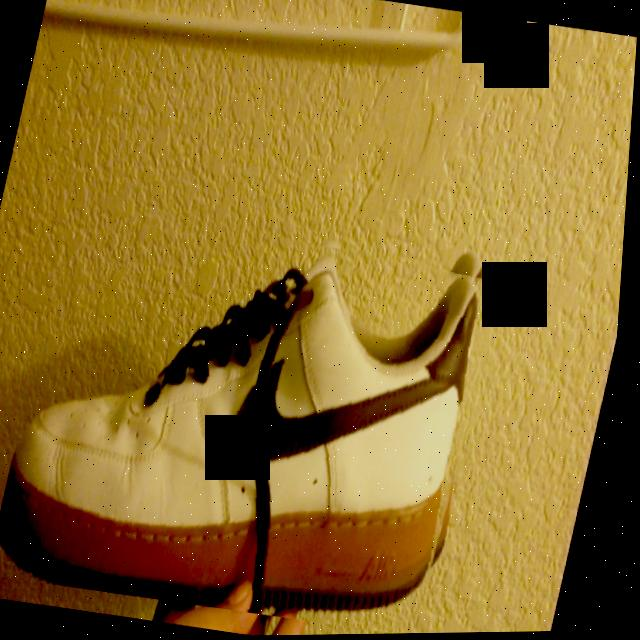shoe: (0, 188, 519, 640)
